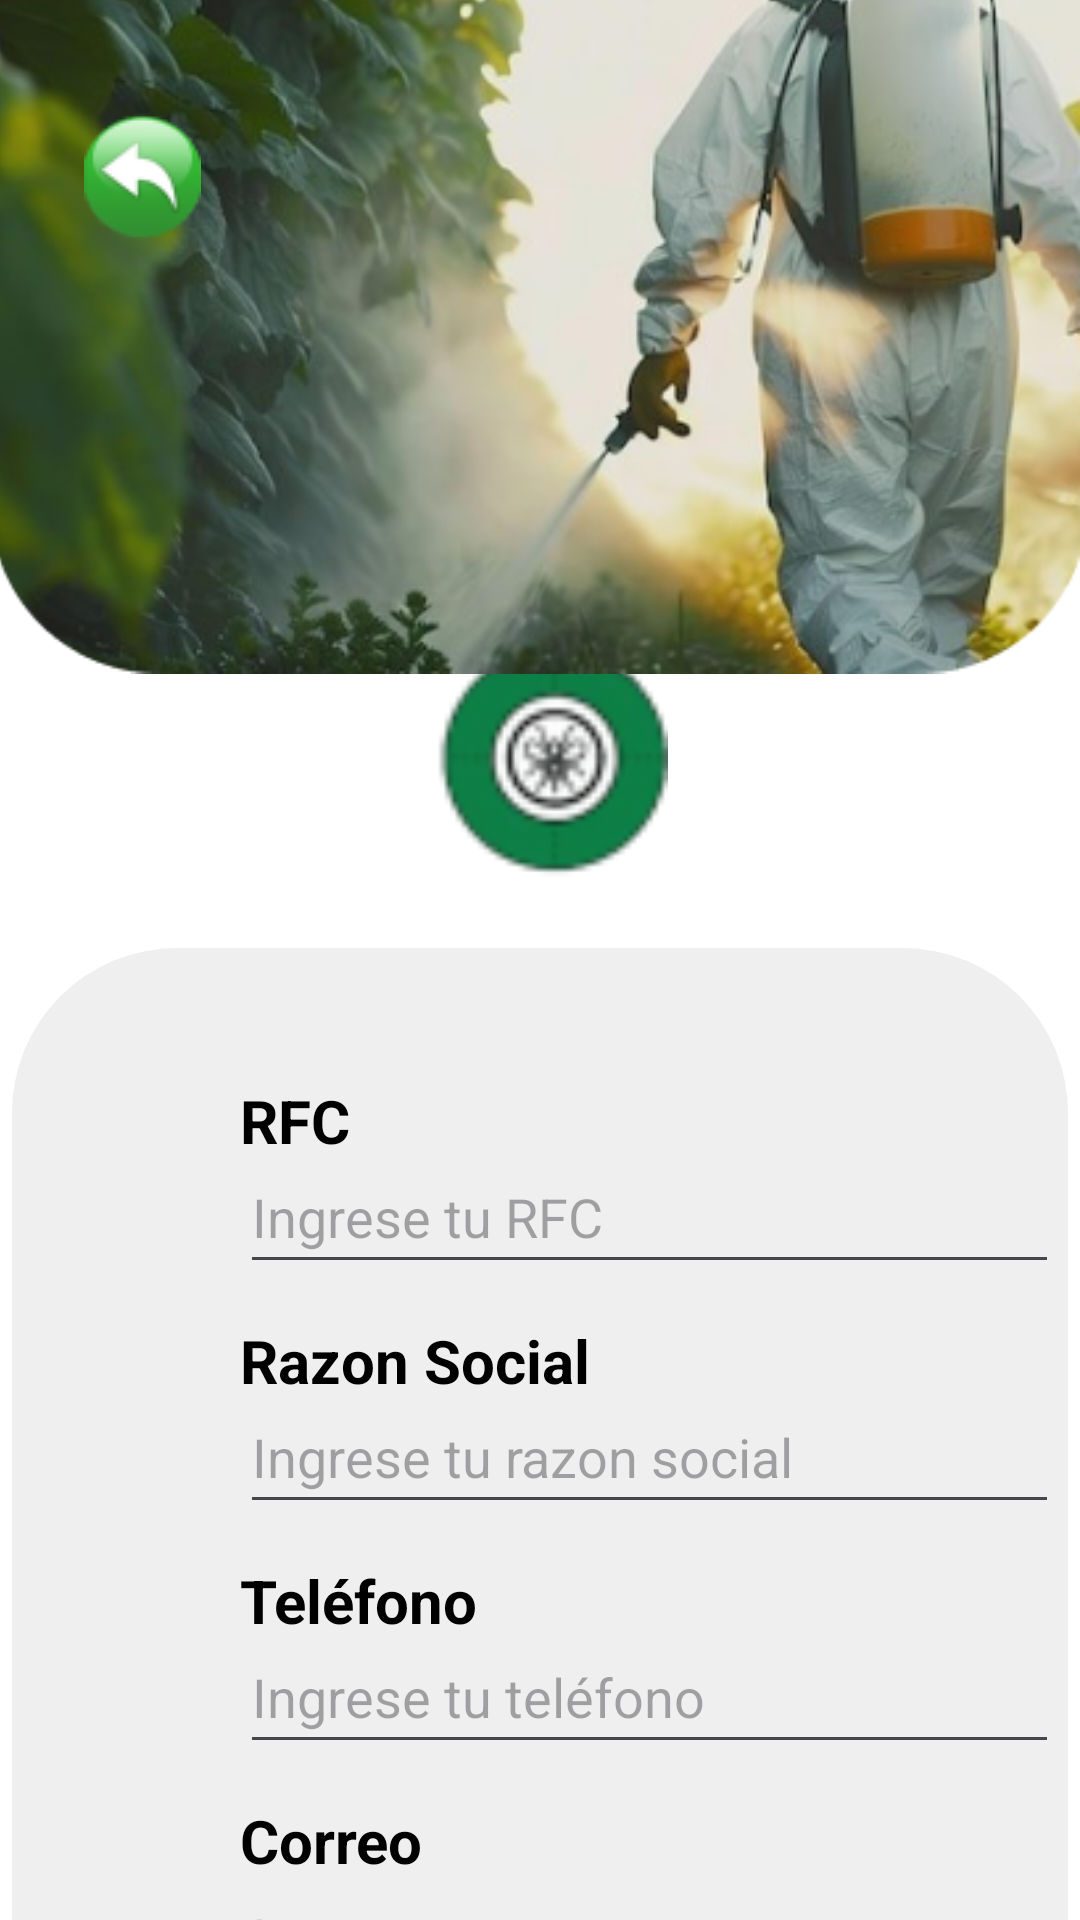

Icons on this 1080w x 1920h Android screen, each with the point to tap as [x,y]:
flecharegreso: [142,177]
